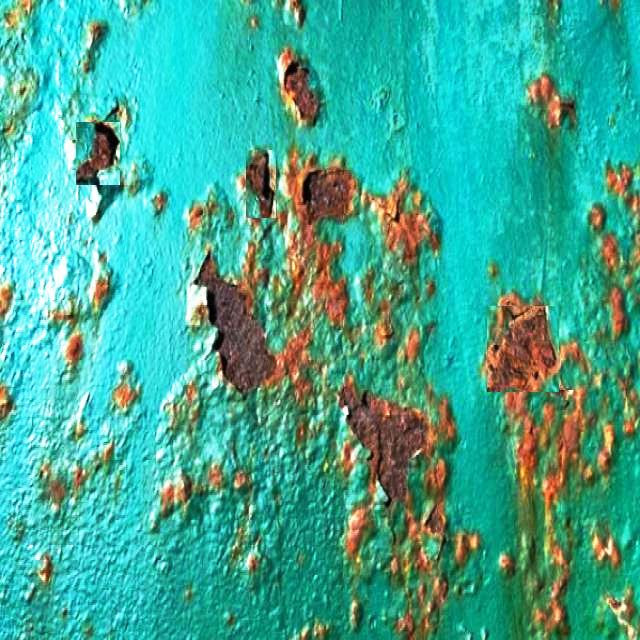Corrosion: (153, 150, 473, 640), (505, 165, 640, 640), (286, 160, 441, 266), (195, 253, 275, 392), (488, 305, 560, 392), (278, 47, 320, 126), (76, 122, 119, 186), (246, 149, 276, 218), (111, 363, 140, 414), (89, 253, 111, 314), (325, 283, 347, 325), (529, 74, 557, 104)
